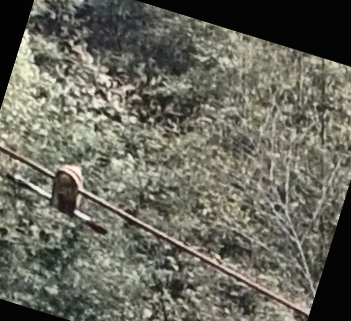damper_defect: (4, 158, 115, 239)
